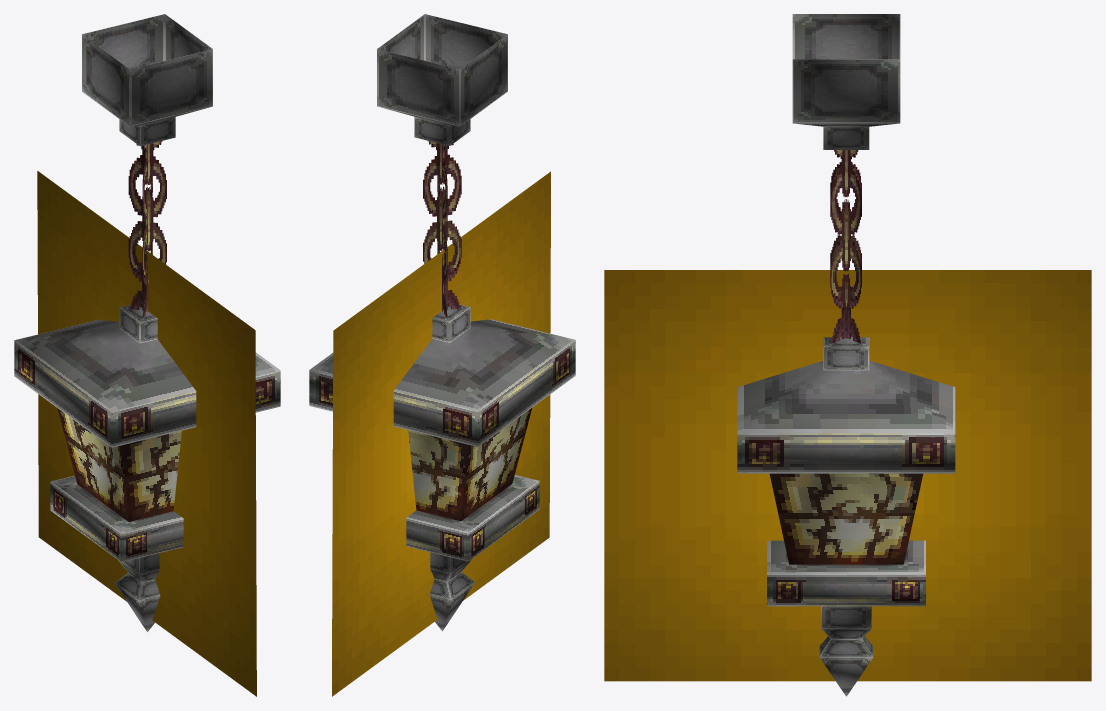
Rendered from generalhanginglantern01.obj.
3 views of the same model, side by side, from view 1: azimuth 30°, elevation 25°; view 2: azimuth 150°, elevation 25°; view 3: azimuth 270°, elevation 25° (orthographic). The views are drawn at different scales.
Visible parts, largest first — view 1: Geoset2, Geoset0, Geoset1; view 2: Geoset2, Geoset0, Geoset1; view 3: Geoset2, Geoset0, Geoset1.
Boxes of the visible parts, x1,y1,x2,y2 form: Geoset2: (37,171,256,696); Geoset0: (14,14,280,632); Geoset1: (57,408,181,521); Geoset2: (332,171,550,696); Geoset0: (309,14,575,631); Geoset1: (408,408,531,521); Geoset2: (604,270,1091,681); Geoset0: (737,14,955,696); Geoset1: (769,473,923,564).
Size of the model in its own units: 0.7106 by 2.37 by 1.59.
3 materials, 3 textured.
